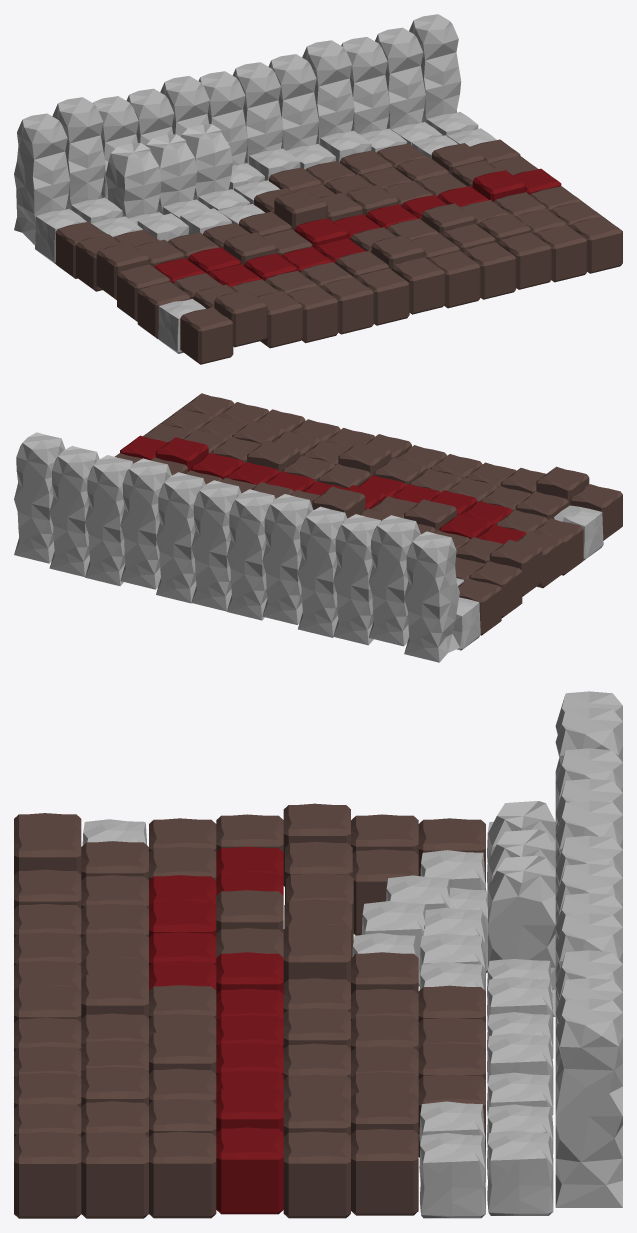
3 views of the same model, one above another, from view 1: azimuth 30°, elevation 25°; view 2: azimuth 150°, elevation 25°; view 3: azimuth 270°, elevation 25° (orthographic). The views are drawn at different scales.
Parts seen in each view (by area): view 1: Cube.112, Cube.101, Cube.111, Cube.110, Cube.108, Cube.017, Cube.109, Cube.107, Cube.106, Cube.105, Cube.018, Cube.019 (+91 smaller); view 2: Cube.112, Cube.101, Cube.108, Cube.111, Cube.104, Cube.106, Cube.110, Cube.107, Cube.103, Cube.105, Cube.109, Cube.102 (+54 smaller); view 3: Cube.111, Cube.019, Cube.063, Cube.078, Cube.066, Cube.062, Cube.087, Cube.098, Cube.036, Cube.026, Cube.046, Cube.088 (+93 smaller).
Boxes of the visible parts, x1,y1,x2,y2 form: Cube.112: [14, 113, 69, 244]; Cube.101: [52, 97, 105, 209]; Cube.111: [409, 14, 461, 122]; Cube.110: [375, 27, 425, 129]; Cube.108: [302, 40, 354, 144]; Cube.017: [105, 142, 161, 218]; Cube.109: [341, 37, 389, 134]; Cube.107: [268, 54, 318, 150]; Cube.106: [232, 62, 283, 163]; Cube.105: [198, 71, 247, 165]; Cube.018: [146, 134, 197, 213]; Cube.019: [181, 124, 232, 200]; Cube.112: [404, 531, 459, 662]; Cube.101: [368, 515, 420, 646]; Cube.108: [120, 458, 171, 589]; Cube.111: [14, 432, 65, 563]; Cube.104: [262, 494, 313, 624]; Cube.106: [191, 480, 241, 611]; Cube.110: [49, 446, 99, 576]; Cube.107: [156, 472, 205, 603]; Cube.103: [297, 506, 347, 637]; Cube.105: [227, 489, 275, 620]; Cube.109: [85, 455, 133, 586]; Cube.102: [333, 514, 380, 645]; Cube.111: [555, 998, 622, 1207]; Cube.019: [488, 855, 555, 1016]; Cube.063: [283, 1131, 350, 1218]; Cube.078: [216, 1127, 283, 1214]; Cube.066: [149, 1131, 216, 1218]; Cube.062: [351, 1129, 418, 1215]; Cube.087: [81, 1132, 148, 1218]; Cube.098: [14, 1132, 81, 1218]; Cube.036: [419, 1133, 485, 1218]; Cube.026: [487, 1130, 553, 1215]; Cube.046: [283, 930, 350, 983]; Cube.088: [14, 825, 81, 874].
Size of the model in its own units: 2409 by 702 by 1806.
